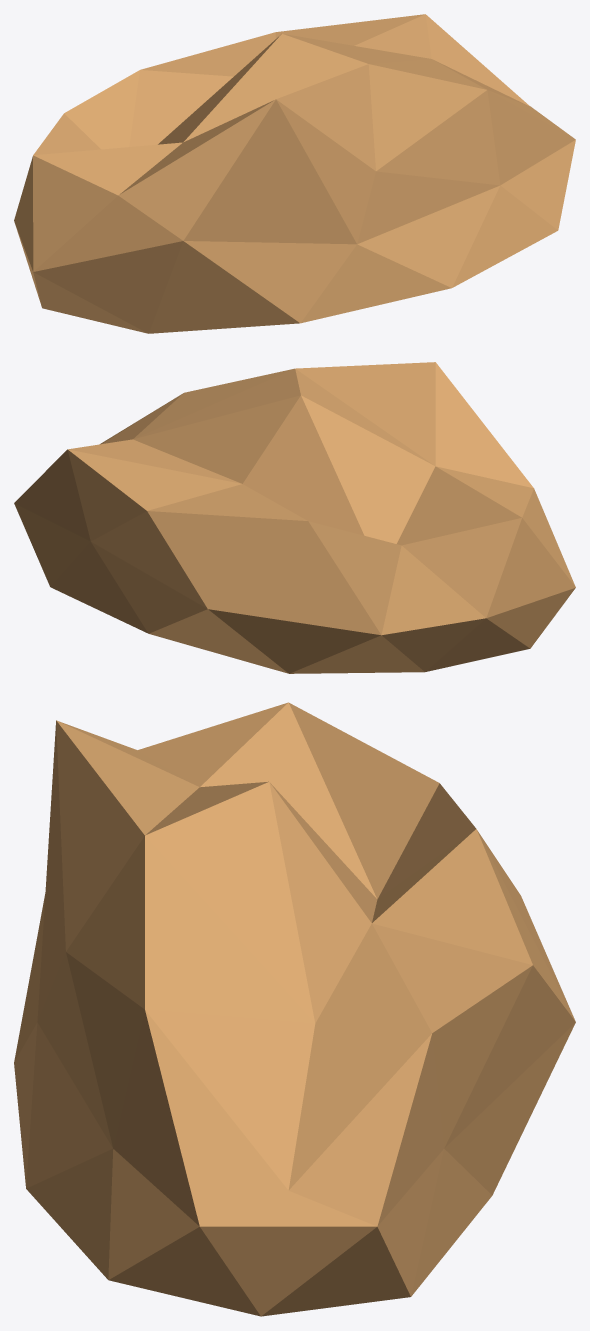
File: rock4.fbx
The picture shows the model from 3 angles, top to bottom: view 1: azimuth 30°, elevation 25°; view 2: azimuth 150°, elevation 25°; view 3: azimuth 270°, elevation 25°; orthographic projection. The views are drawn at different scales.
Visible parts, largest first — view 1: Icosphere.001; view 2: Icosphere.001; view 3: Icosphere.001.
Part boxes in pixels (<box>): Icosphere.001: <box>14,14,575,333</box>; Icosphere.001: <box>14,362,575,673</box>; Icosphere.001: <box>14,702,575,1316</box>.
Bounding box in the file's own units: 314 × 127 × 183.
